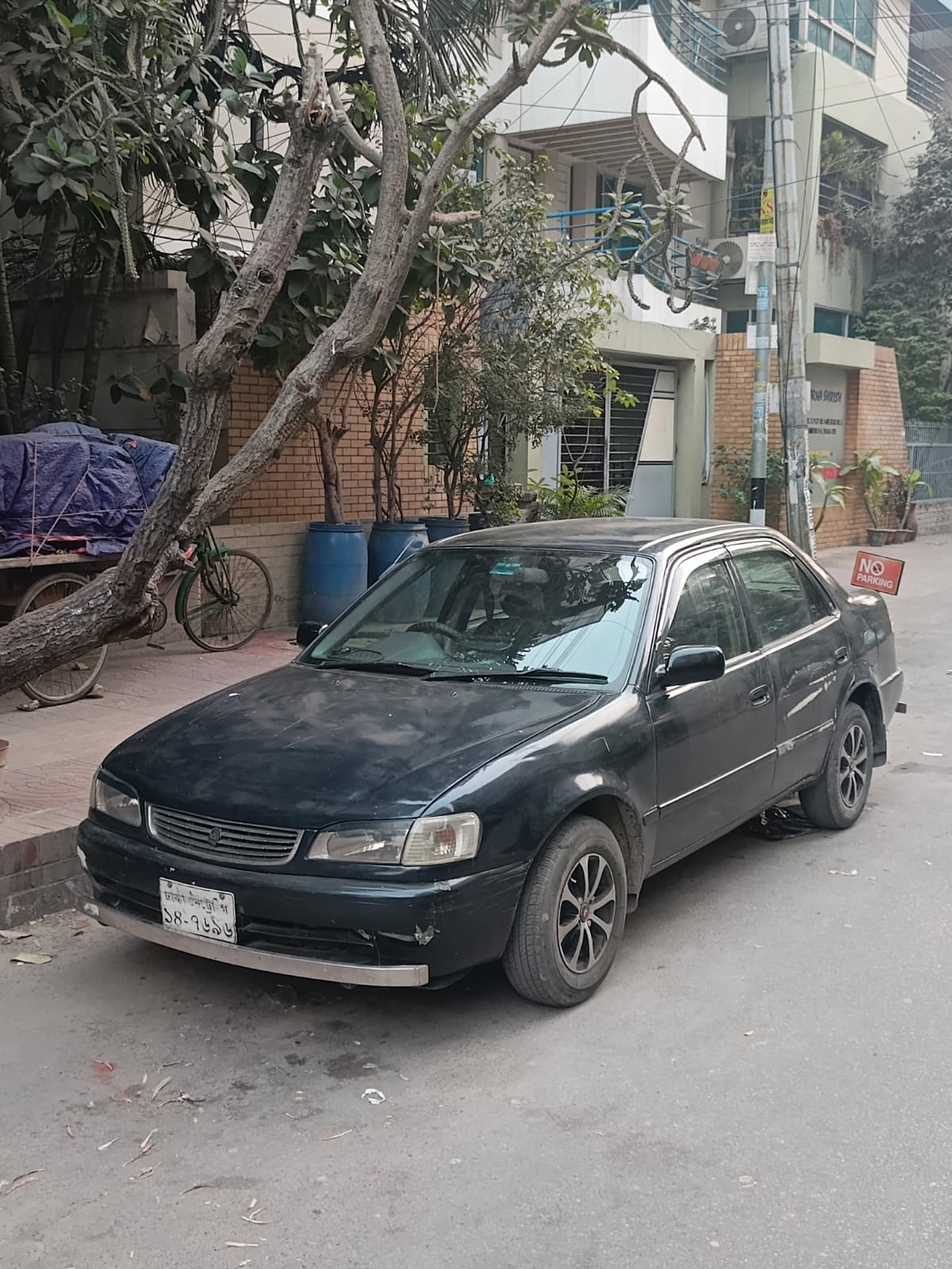private car: (63, 519, 935, 1008)
